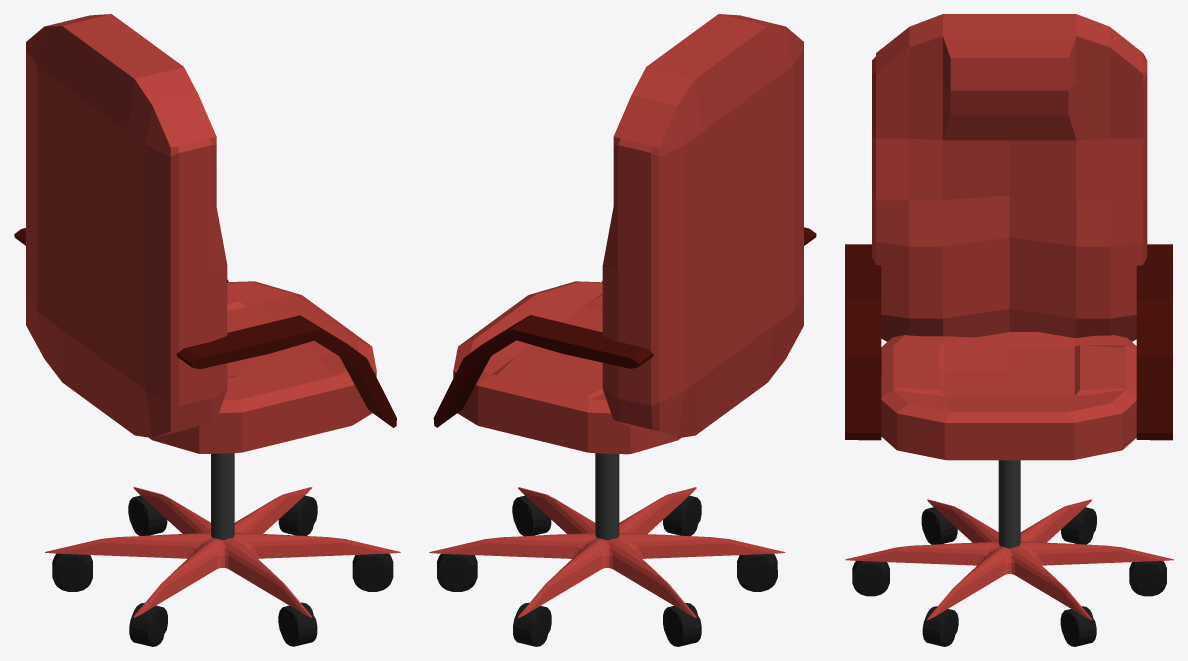
File: Chair.fbx
3 views of the same model, side by side, from view 1: azimuth 30°, elevation 25°; view 2: azimuth 150°, elevation 25°; view 3: azimuth 270°, elevation 25° (orthographic). The views are drawn at different scales.
Visible parts, largest first — view 1: Cube.001, Cube, Circle.001, Cube.003, Plane.001, Cylinder; view 2: Cube.001, Cube, Circle.001, Cube.003, Plane, Cylinder; view 3: Cube.001, Cube, Circle.001, Plane.001, Plane, Cube.003, Cylinder.
Boxes of the visible parts, x1,y1,x2,y2 form: Cube.001: (26,14,227,438); Cube: (149,281,376,453); Circle.001: (45,487,400,617); Cube.003: (52,495,393,646); Plane.001: (176,315,396,427); Cylinder: (211,453,234,540); Cube.001: (602,14,803,438); Cube: (453,281,681,454); Circle.001: (429,487,785,617); Cube.003: (437,495,777,646); Plane: (433,315,653,427); Cylinder: (595,453,619,540); Cube.001: (872,14,1147,341); Cube: (881,332,1136,460); Circle.001: (845,499,1173,619); Plane.001: (845,244,881,440); Plane: (1136,244,1172,440); Cube.003: (852,507,1166,646); Cylinder: (998,460,1020,548).
Size of the model in its own units: 299 by 603 by 345.
